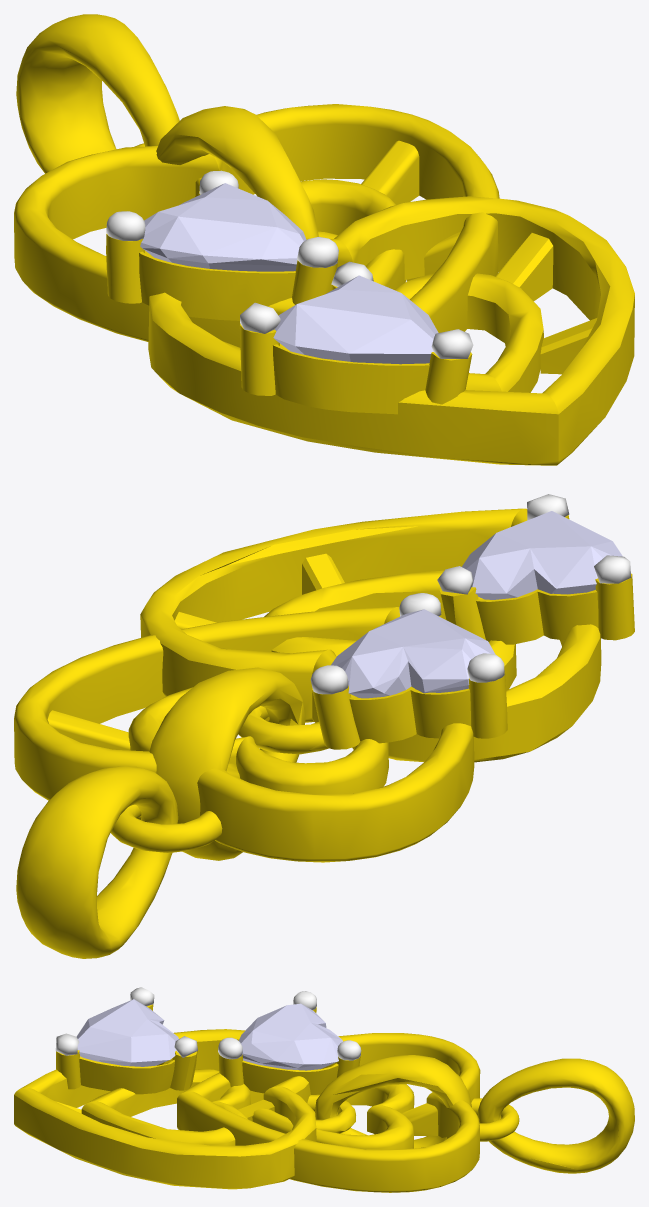
File: DPN-D000675696.glb
3 views of the same model, one above another, from view 1: azimuth 30°, elevation 25°; view 2: azimuth 150°, elevation 25°; view 3: azimuth 270°, elevation 25° (orthographic). The views are drawn at different scales.
Parts seen in each view (by area): view 1: lowPolyMesh, highPolyMesh; view 2: highPolyMesh, lowPolyMesh; view 3: highPolyMesh, lowPolyMesh.
Part boxes in pixels (x1,y1,x2,y2): lowPolyMesh: (148,106,634,465); highPolyMesh: (14,14,499,347); highPolyMesh: (14,593,507,958); lowPolyMesh: (140,494,634,860); highPolyMesh: (177,991,634,1192); lowPolyMesh: (14,987,471,1189).
Bounding box in the file's own units: 0.0115 × 0.00523 × 0.0239.
